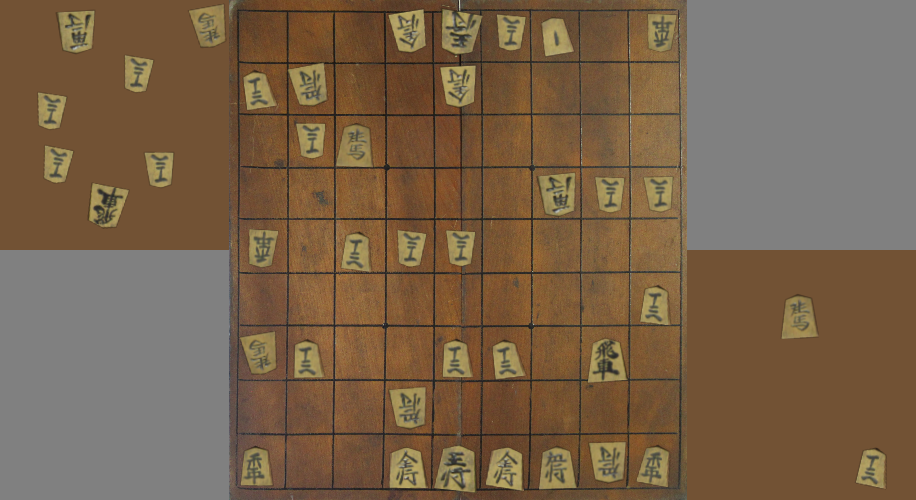A: (579, 331, 634, 389), (336, 114, 379, 173), (435, 442, 480, 496), (484, 444, 529, 498), (538, 15, 584, 65), (238, 67, 284, 115), (536, 445, 578, 496), (487, 338, 530, 386), (634, 281, 676, 328), (339, 226, 376, 276), (386, 450, 429, 493), (639, 440, 673, 492), (240, 442, 275, 489), (288, 340, 325, 381), (439, 336, 472, 380)
B: (487, 9, 531, 62), (436, 63, 482, 111), (440, 4, 485, 53), (236, 327, 279, 375), (390, 386, 433, 434), (533, 173, 580, 216), (244, 224, 283, 274), (285, 63, 331, 105), (585, 440, 627, 486), (387, 9, 430, 53), (643, 7, 679, 55), (638, 173, 676, 218), (395, 224, 430, 272), (591, 174, 630, 216), (442, 228, 479, 272)
C: (775, 294, 825, 347), (851, 439, 893, 495)
D: (78, 176, 131, 234), (183, 0, 233, 53), (53, 9, 102, 58), (136, 150, 182, 193), (40, 143, 77, 187), (123, 51, 159, 95), (35, 85, 69, 131)
